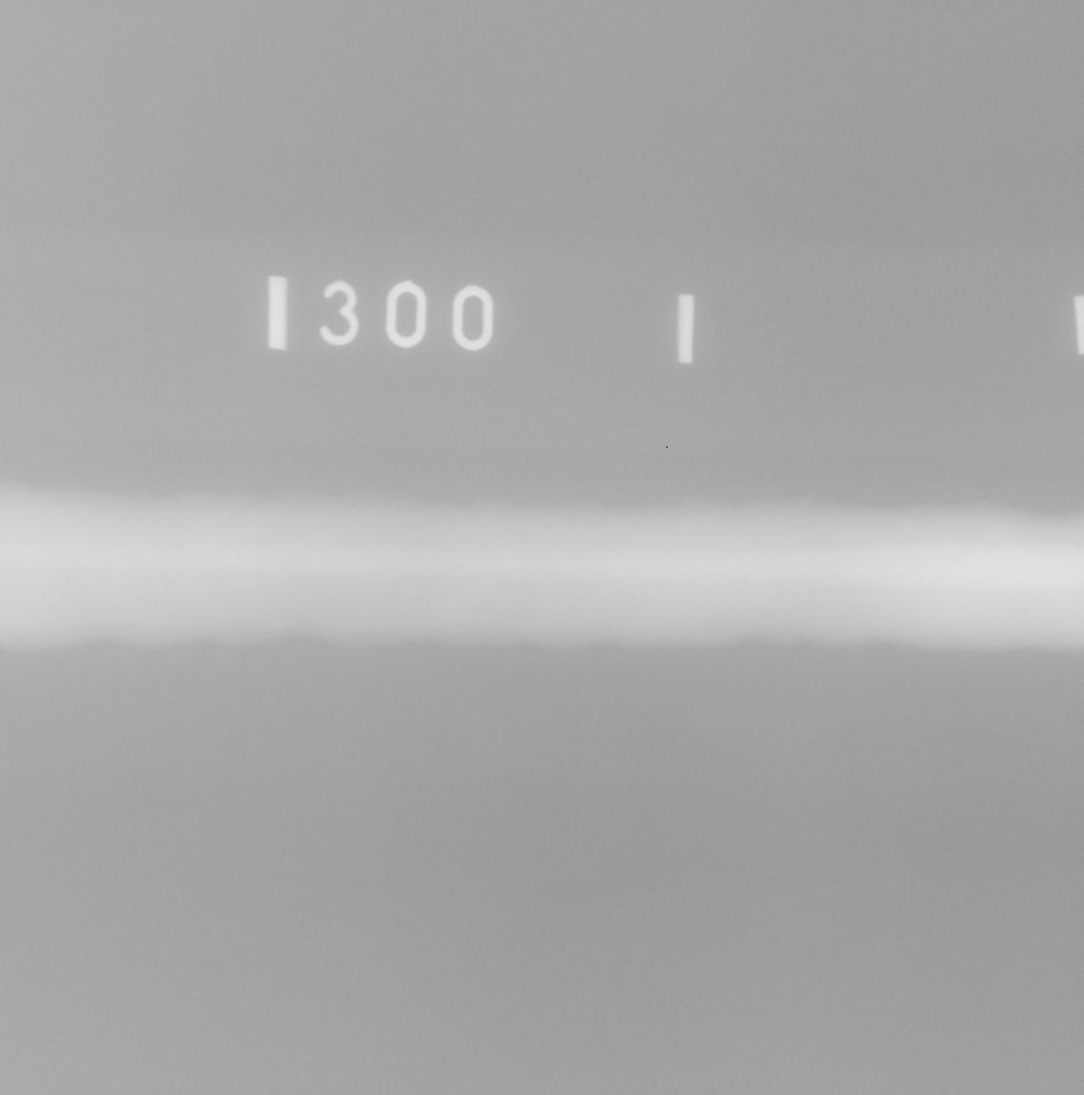Pore/Porosity: (177, 545, 183, 550)
